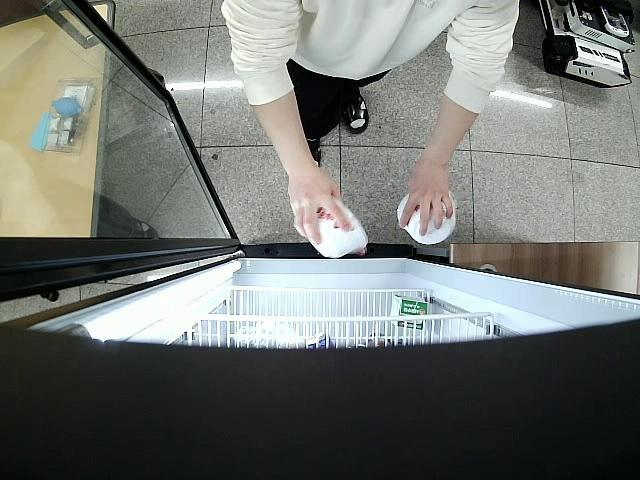09_yukGaeJang: (302, 196, 368, 260), (398, 192, 456, 246)
